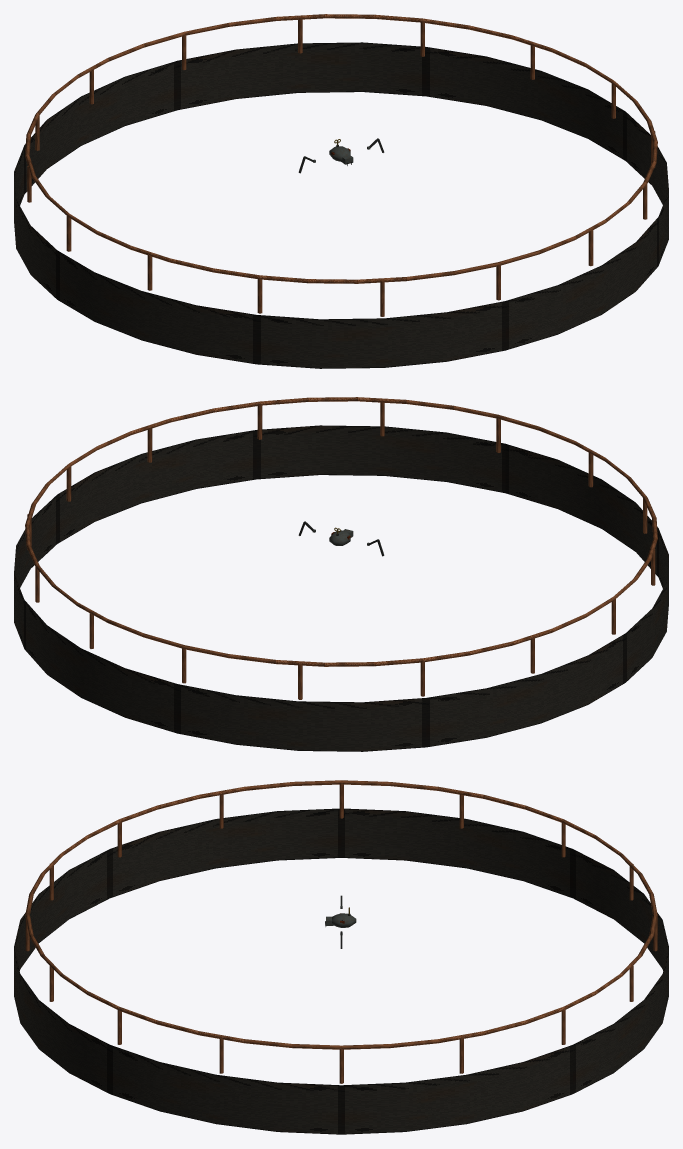
The model's file is hotspider.glb.
3 views of the same model, one above another, from view 1: azimuth 30°, elevation 25°; view 2: azimuth 150°, elevation 25°; view 3: azimuth 270°, elevation 25° (orthographic).
Visible parts, largest first — view 1: pit; view 2: pit; view 3: pit.
Boxes of the visible parts, x1,y1,x2,y2 form: pit: [14, 14, 668, 368]; pit: [14, 397, 668, 751]; pit: [14, 780, 668, 1134].
Size of the model in its own units: 16.8 by 2.49 by 16.8.
6 materials, 5 textured.
